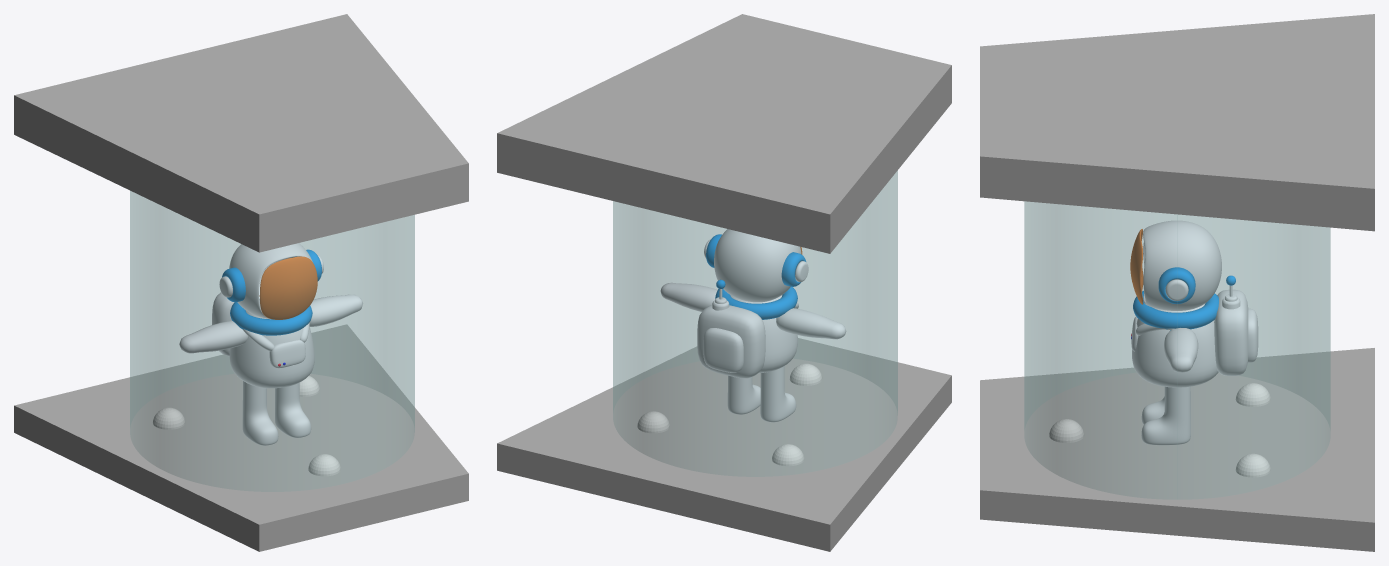
The model's file is suitcase.fbx.
3 renders of one model, left to right at view 1: azimuth 30°, elevation 25°; view 2: azimuth 150°, elevation 25°; view 3: azimuth 270°, elevation 25°, orthographic. The views are drawn at different scales.
Visible parts, largest first — view 1: 구체.001, Cube.001, astronaut, Cube, 큐브.009, 큐브.007, 큐브.002, Torus, 큐브.004, 큐브.012, 큐브.005; view 2: 구체.001, Cube, 큐브.005, 큐브.011, 큐브.009, 큐브.007, astronaut, 큐브.004, 큐브.002, Torus; view 3: 구체.001, Cube, astronaut, 큐브.005, 큐브.002, Torus, 큐브.004, 실린더.001, Cube.001, 큐브.011.
Part boxes in pixels (x1,y1,x2,y2): 구체.001: (14,14,468,551); Cube.001: (259,256,317,319); astronaut: (229,298,314,388); Cube: (229,243,312,319); 큐브.009: (242,381,278,445); 큐브.007: (179,321,247,353); 큐브.002: (275,382,311,437); Torus: (230,302,312,335); 큐브.004: (309,294,362,326); 큐브.012: (269,340,305,368); 큐브.005: (212,292,234,356); 구체.001: (497,14,951,551); Cube: (714,229,801,302); 큐브.005: (697,305,765,378); 큐브.011: (703,328,743,372); 큐브.009: (760,366,796,422); 큐브.007: (776,308,846,339); astronaut: (730,295,797,373); 큐브.004: (660,282,717,311); 큐브.002: (727,375,760,414); Torus: (715,287,797,319); 구체.001: (980,14,1374,551); Cube: (1143,220,1221,310); astronaut: (1132,303,1218,387); 큐브.005: (1214,289,1248,375); 큐브.002: (1141,386,1190,445); Torus: (1133,290,1218,330); 큐브.004: (1164,328,1198,372); 실린더.001: (1158,267,1195,303); Cube.001: (1130,229,1143,304); 큐브.011: (1248,308,1258,362).
Bounding box in the file's own units: 1635 × 1583 × 1560.
